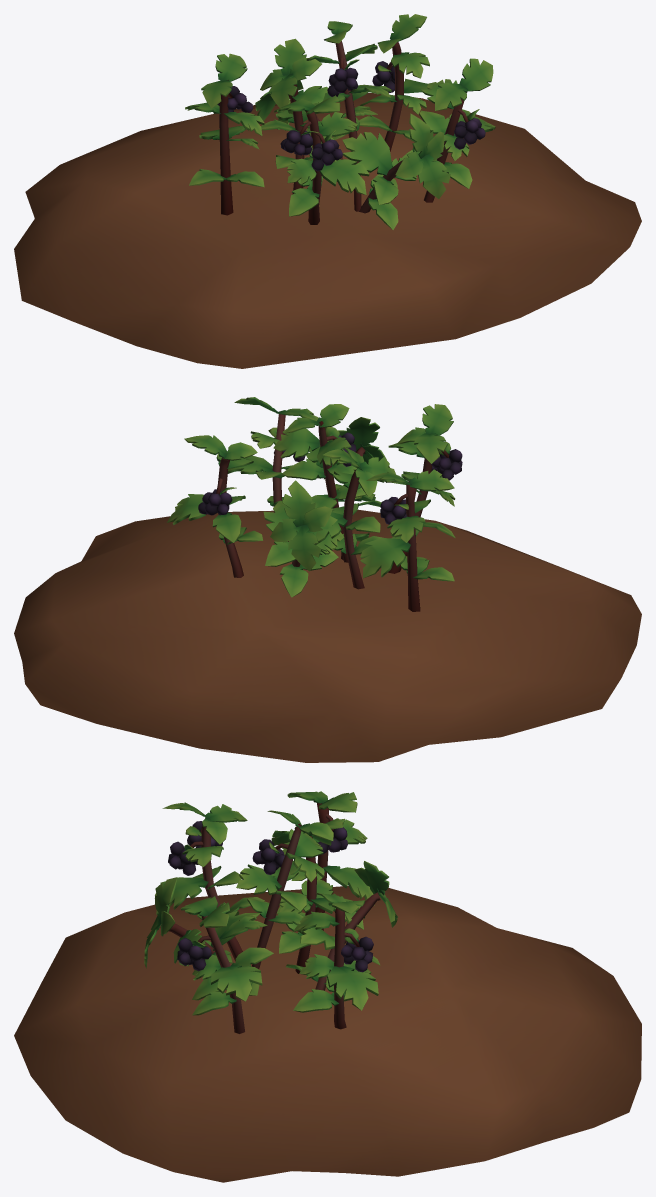
The model's file is SM_PlantSoil_Raspberry_Lv3.fbx.
The picture shows the model from 3 angles, top to bottom: view 1: azimuth 30°, elevation 25°; view 2: azimuth 150°, elevation 25°; view 3: azimuth 270°, elevation 25°; orthographic projection. The views are drawn at different scales.
Parts seen in each view (by area): view 1: SM_PlantSoil_Raspberry_Lv3; view 2: SM_PlantSoil_Raspberry_Lv3; view 3: SM_PlantSoil_Raspberry_Lv3.
Boxes of the visible parts, left/top/right/bottom form: SM_PlantSoil_Raspberry_Lv3: left=14, top=14, right=641, bottom=368; SM_PlantSoil_Raspberry_Lv3: left=14, top=397, right=641, bottom=762; SM_PlantSoil_Raspberry_Lv3: left=14, top=791, right=641, bottom=1182.
Size of the model in its own units: 118 by 44.65 by 106.
